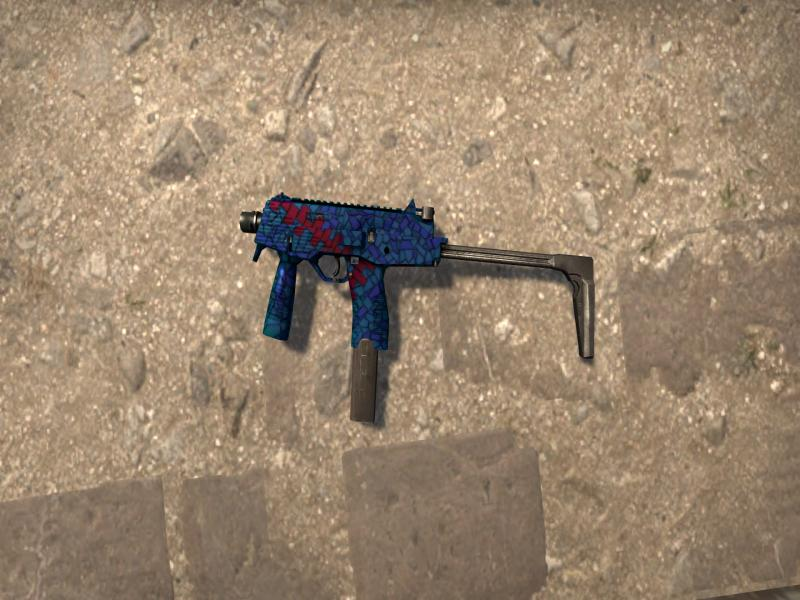MP9: (240, 193, 595, 357)
